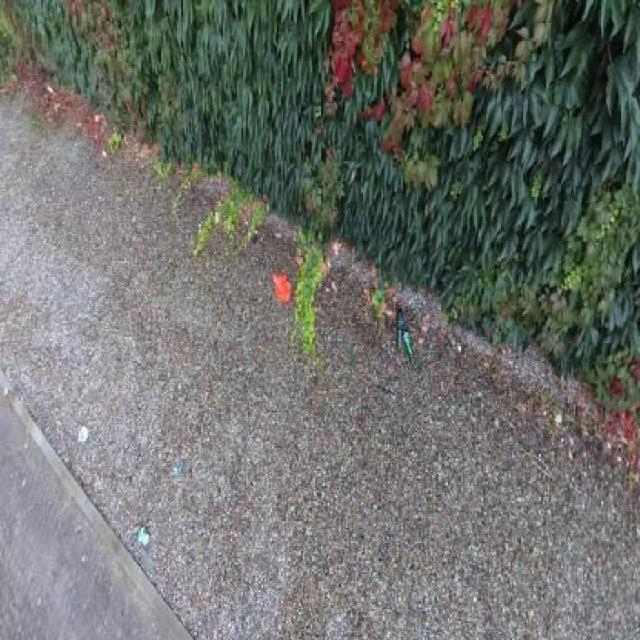Garbage: (271, 268, 291, 302), (402, 329, 417, 370), (136, 524, 149, 548), (397, 309, 404, 351), (78, 427, 89, 445), (3, 389, 14, 403), (177, 462, 185, 476)
